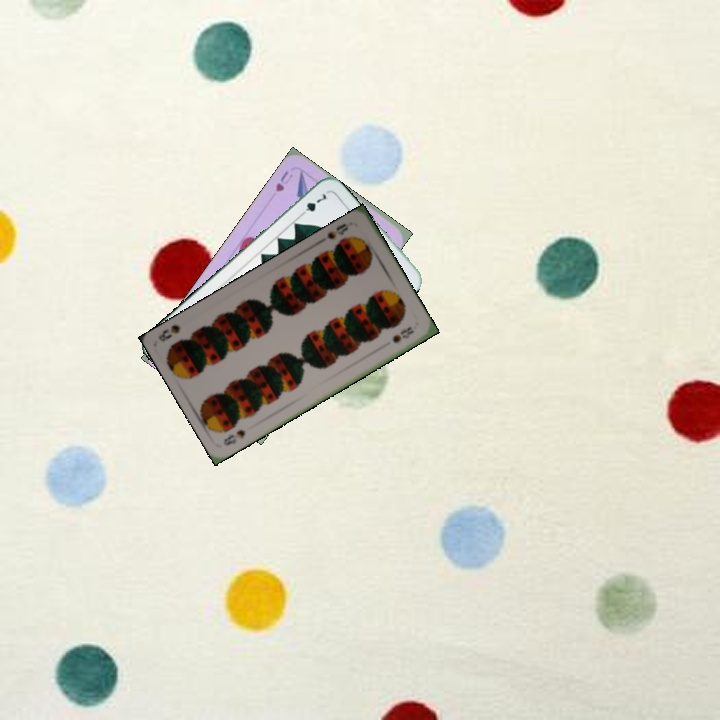G7: (296, 189, 329, 220)
HU: (271, 167, 295, 194)
S8: (322, 219, 351, 242), (219, 425, 248, 448)
